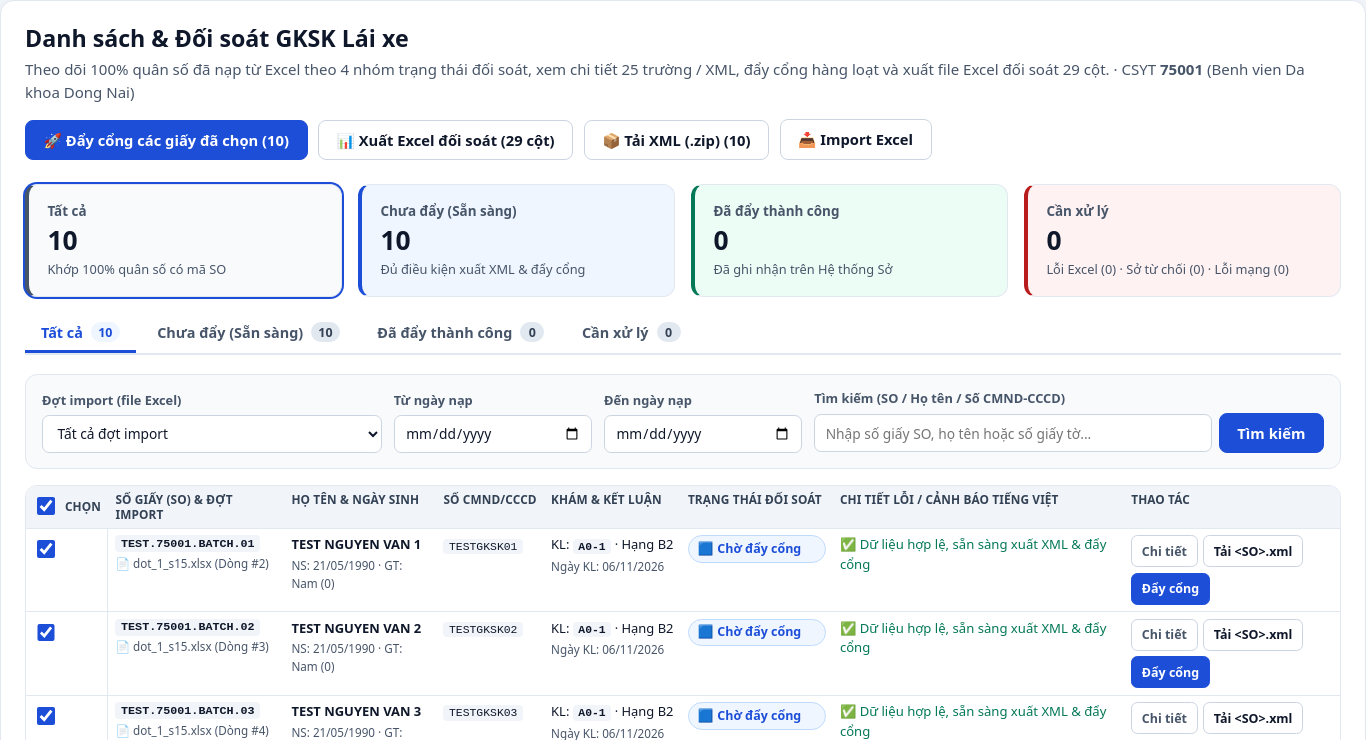
Test: S16 — Đẩy cổng hàng loạt, Ngăn trượt (Drawer) Chi tiết 25 trường, Xem trước XML & Gửi lại giữ nguyên msg_id › 5. Đẩy cổng hàng loạt 10 giấy (2 rejected, 1 lỗi tạm rồi OK -> 8 accepted, 2 rejected): hộp xác nhận, polling tiến độ jobId và cập nhật thẻ đếm đối soát
Note: Mở hộp thoại xác nhận đẩy cổng hàng loạt
Click the button with test id "batch-send-btn".
click(166, 140)  # box [25,120,308,160]
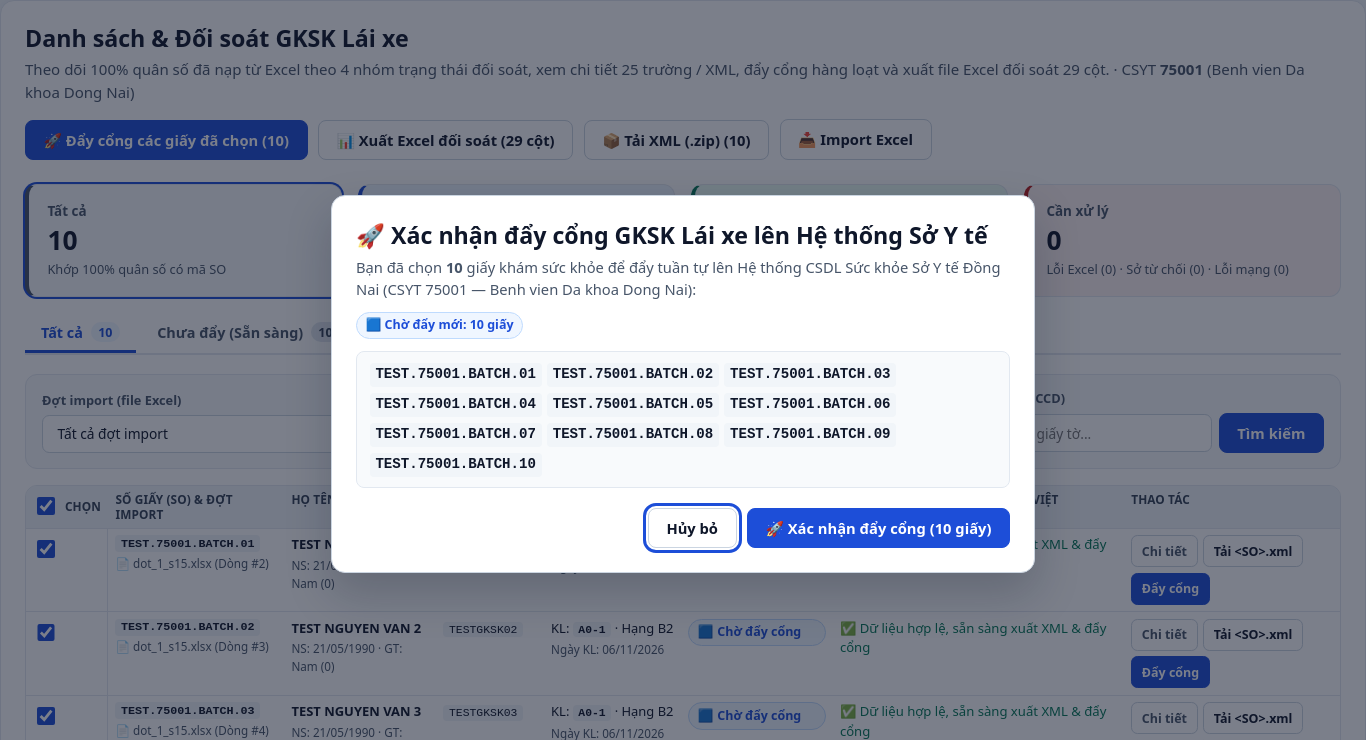
Expected: the text with test id "batch-confirm-count" reads "10", [446,256,463,276]
Note: Bấm xác nhận đẩy cổng 10 giấy
Click the button with test id "confirm-batch-send-btn".
click(878, 528)  # box [747,508,1010,548]
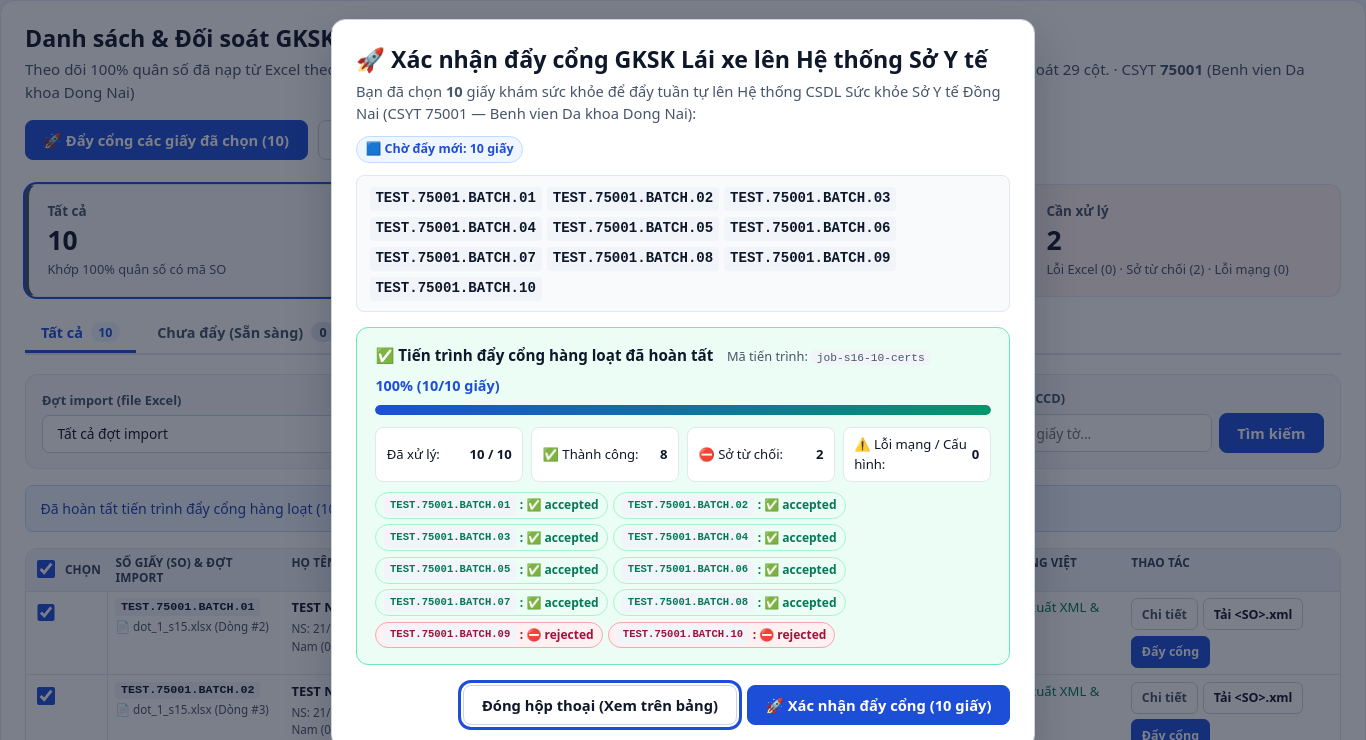
Expected: the element with test id "batch-progress-panel" is shown, [356,327,1010,665]
Expected: the text with test id "batch-progress-done" reads "10 / 10", [470,445,512,464]
Expected: the text with test id "batch-progress-accepted" reads "8", [660,445,668,463]
